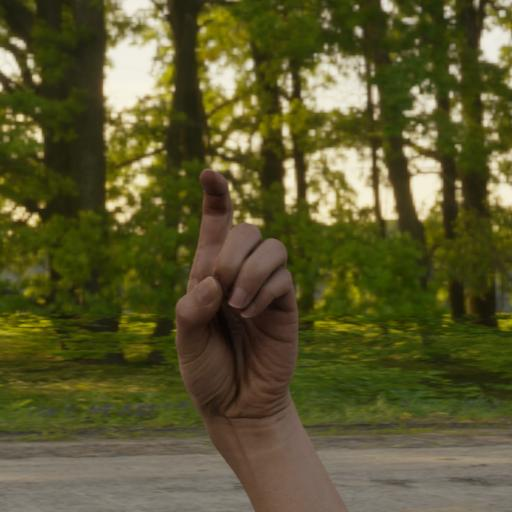X: (153, 158, 319, 440)
